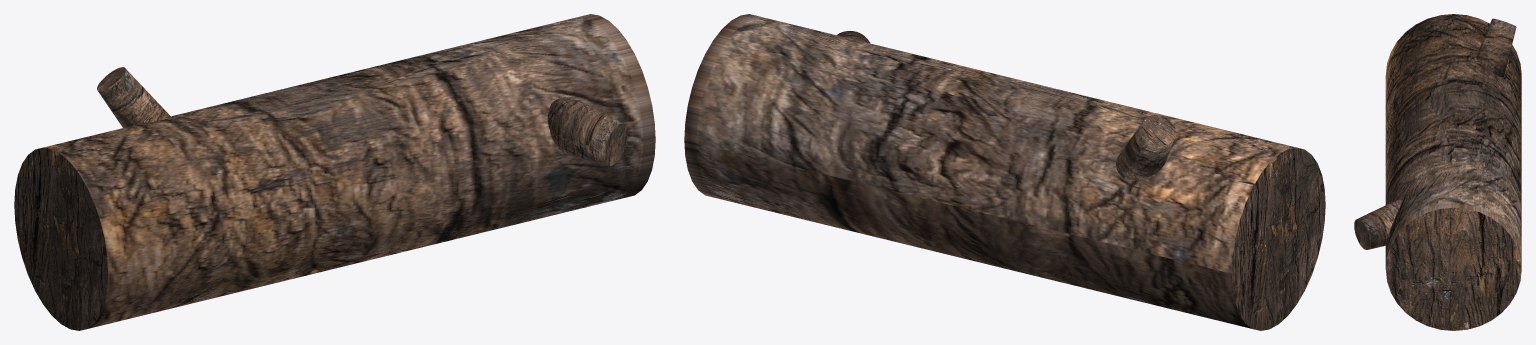
The model's file is TreeLog.fbx.
3 renders of one model, left to right at view 1: azimuth 30°, elevation 25°; view 2: azimuth 150°, elevation 25°; view 3: azimuth 270°, elevation 25°, orthographic. The views are drawn at different scales.
Visible parts, largest first — view 1: Tree; view 2: Tree; view 3: Tree.
Part boxes in pixels (x1,y1,x2,y2): Tree: (14, 14, 655, 330); Tree: (684, 14, 1325, 330); Tree: (1354, 14, 1521, 330).
Size of the model in its own units: 674 by 245 by 246.
